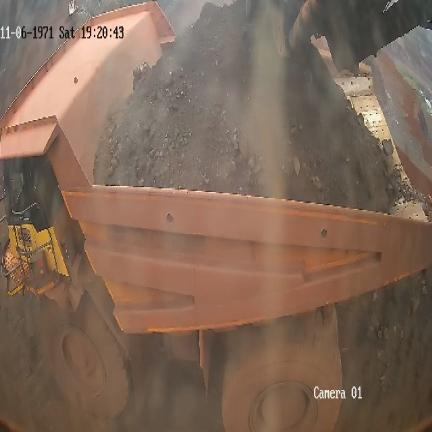pile: (93, 4, 391, 206)
